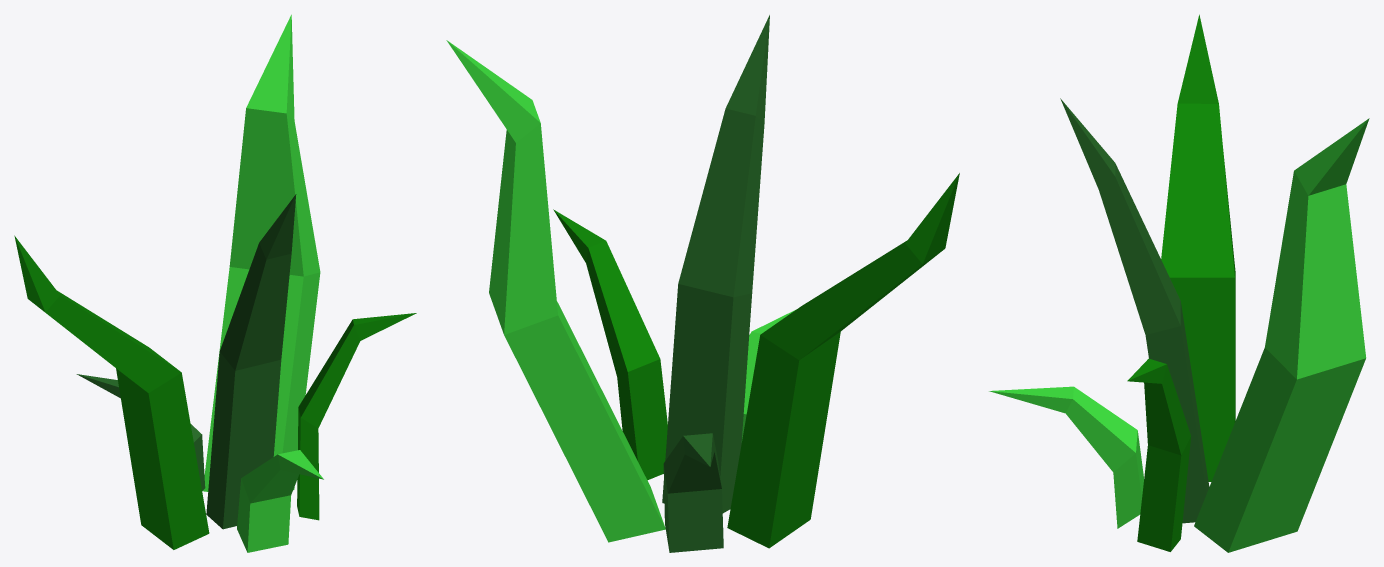
Rendered from Grass Model.fbx.
3 views of the same model, side by side, from view 1: azimuth 30°, elevation 25°; view 2: azimuth 150°, elevation 25°; view 3: azimuth 270°, elevation 25° (orthographic). The views are drawn at different scales.
Parts seen in each view (by area): view 1: Grass; view 2: Grass; view 3: Grass.
Part boxes in pixels (x1,y1,x2,y2): Grass: (14, 14, 416, 552); Grass: (446, 15, 959, 552); Grass: (989, 14, 1369, 552).
Size of the model in its own units: 14.11 by 15.29 by 11.14.
